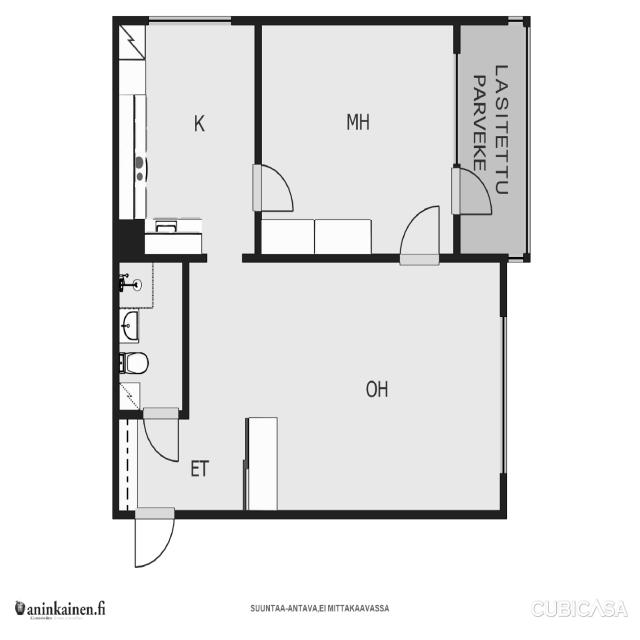door: (135, 404, 187, 470), (452, 160, 499, 224), (249, 160, 300, 217), (132, 507, 180, 566), (400, 200, 443, 265)
window: (523, 16, 538, 260), (497, 304, 514, 489), (139, 8, 232, 30), (496, 10, 528, 26), (509, 246, 524, 268)
zone: (191, 261, 501, 515), (259, 18, 458, 259), (115, 20, 258, 258), (119, 256, 184, 414)
